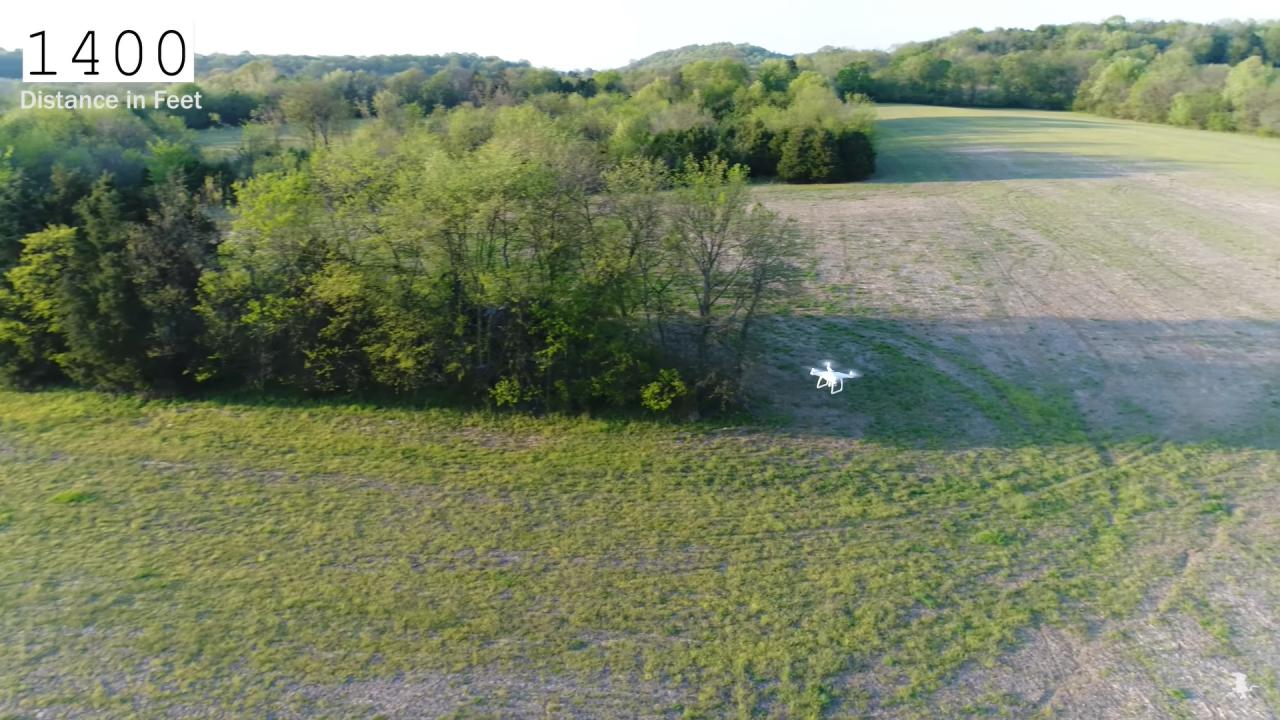Drone: (796, 351, 873, 401)
